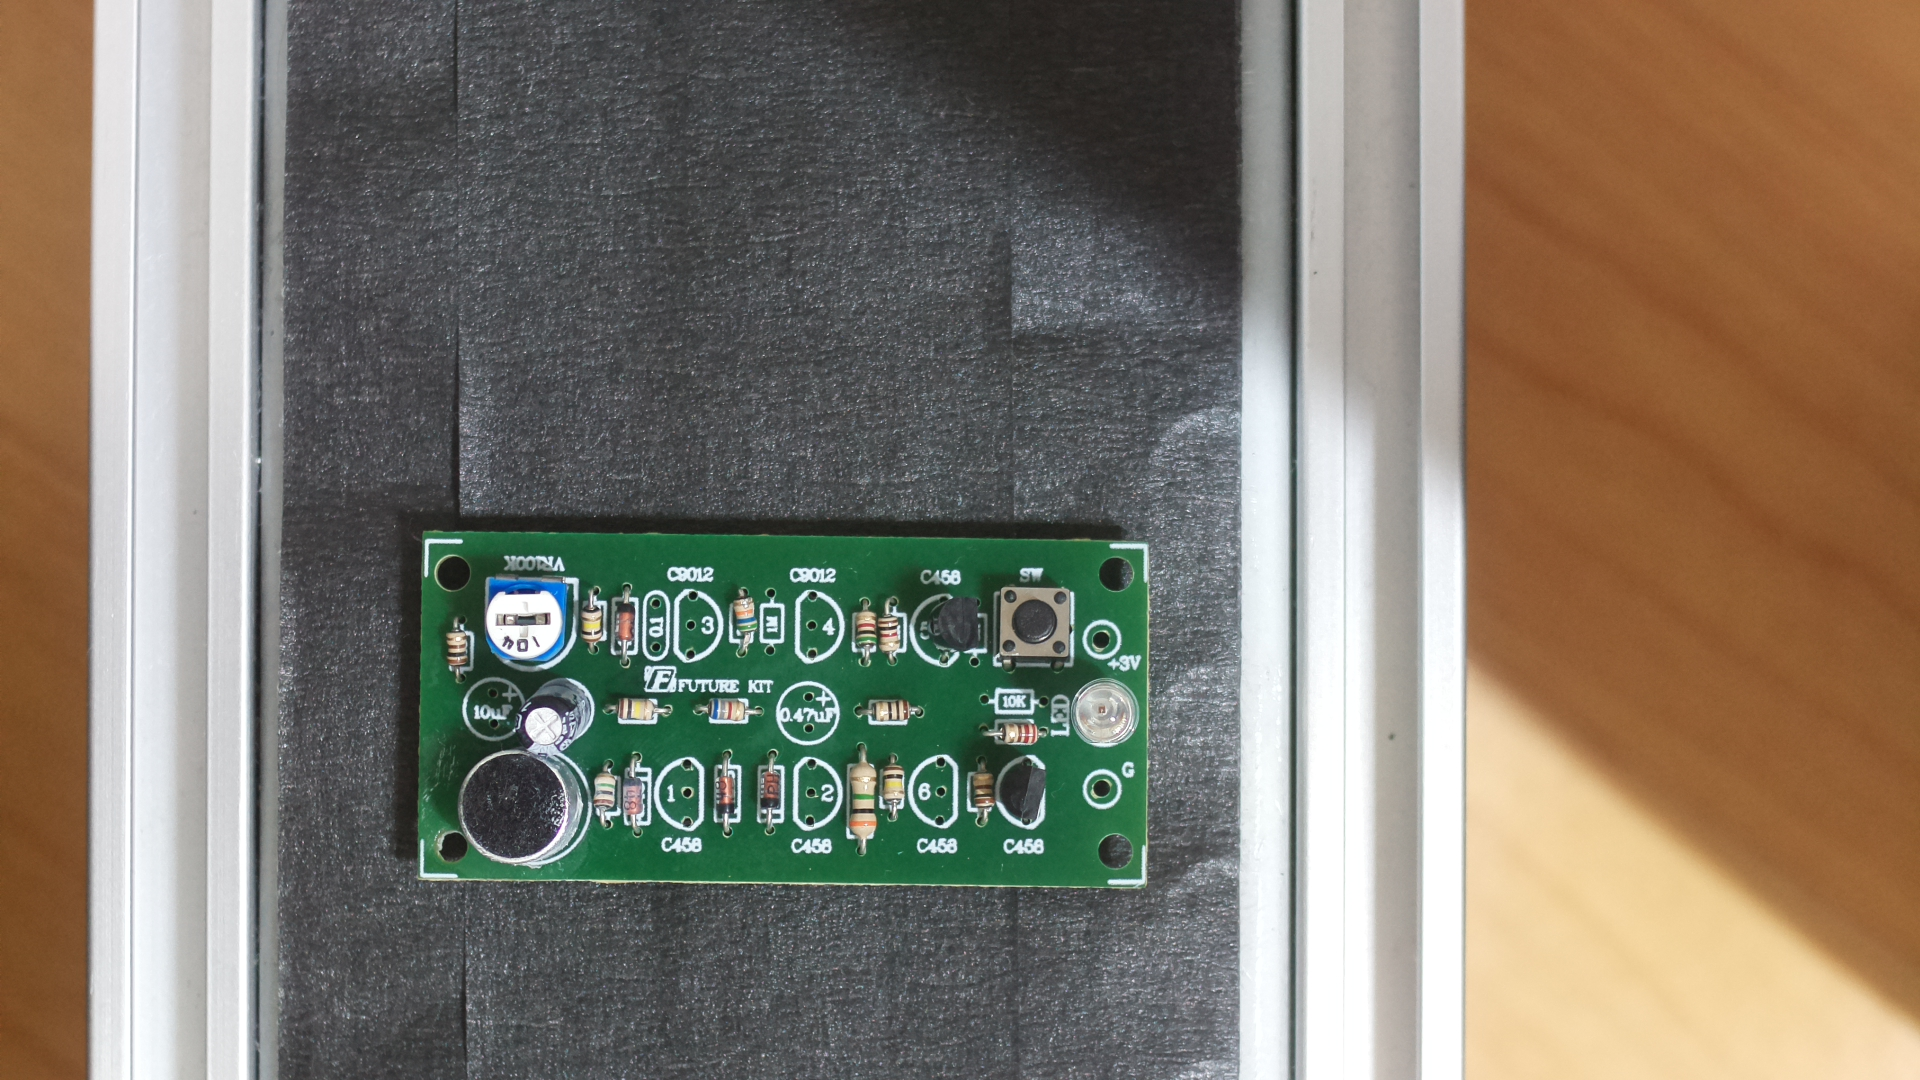A_Missing_part: (413, 506, 1167, 915)
